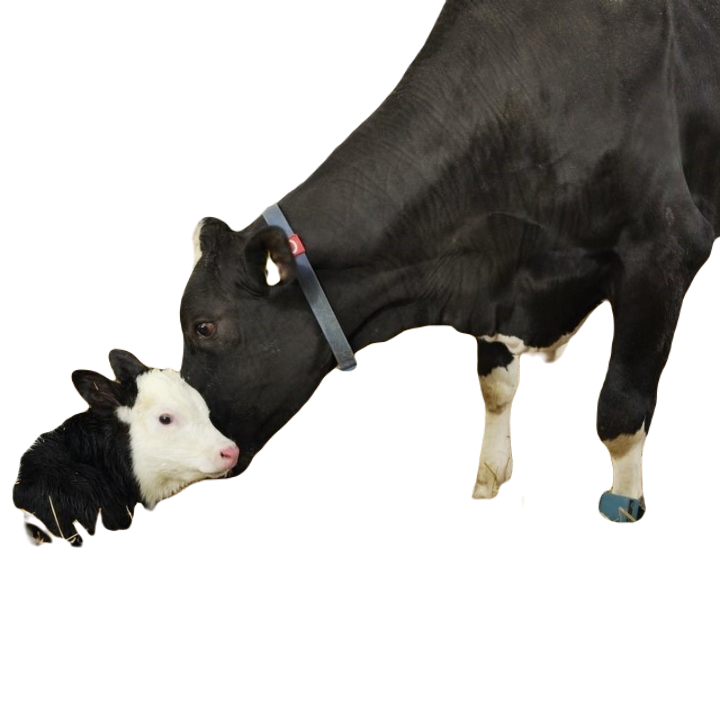Cow: (176, 0, 719, 525)
